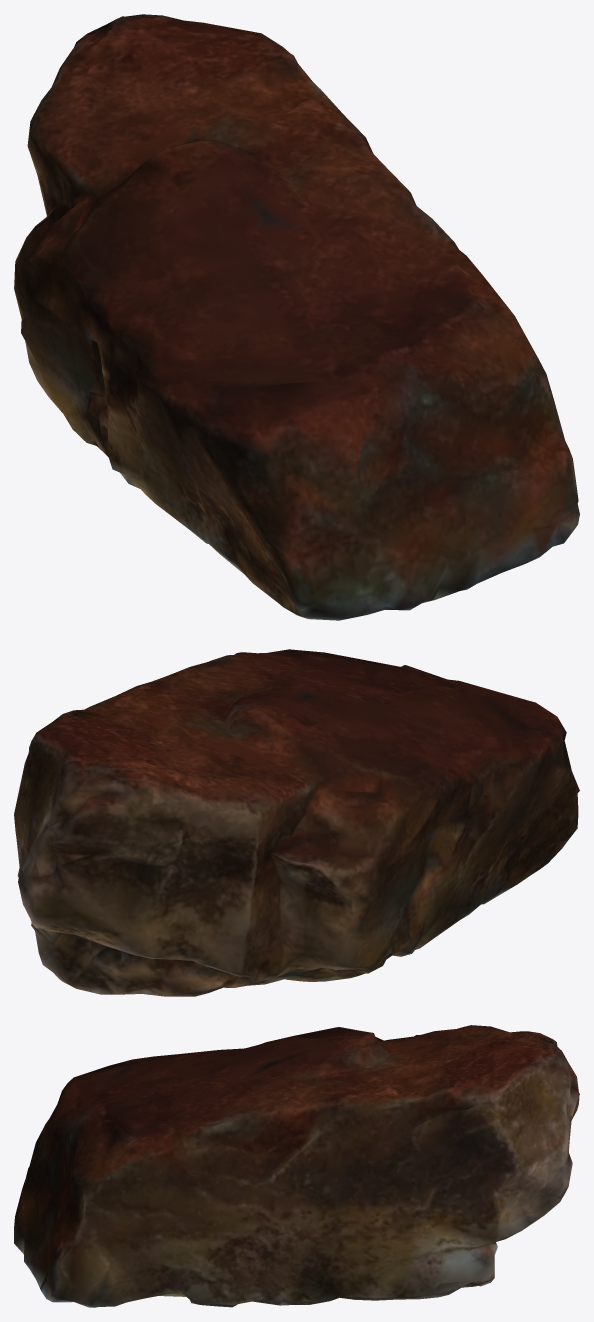
The model's file is rock_a.glb.
3 views of the same model, one above another, from view 1: azimuth 30°, elevation 25°; view 2: azimuth 150°, elevation 25°; view 3: azimuth 270°, elevation 25° (orthographic). The views are drawn at different scales.
Visible parts, largest first — view 1: rock_07; view 2: rock_07; view 3: rock_07.
Boxes of the visible parts, x1,y1,x2,y2 form: rock_07: (14, 14, 579, 620); rock_07: (14, 649, 579, 996); rock_07: (14, 1025, 579, 1307).
Bounding box in the file's own units: 0.1686 × 0.1434 × 0.3199.
Materials: 1 (1 with a texture image).
